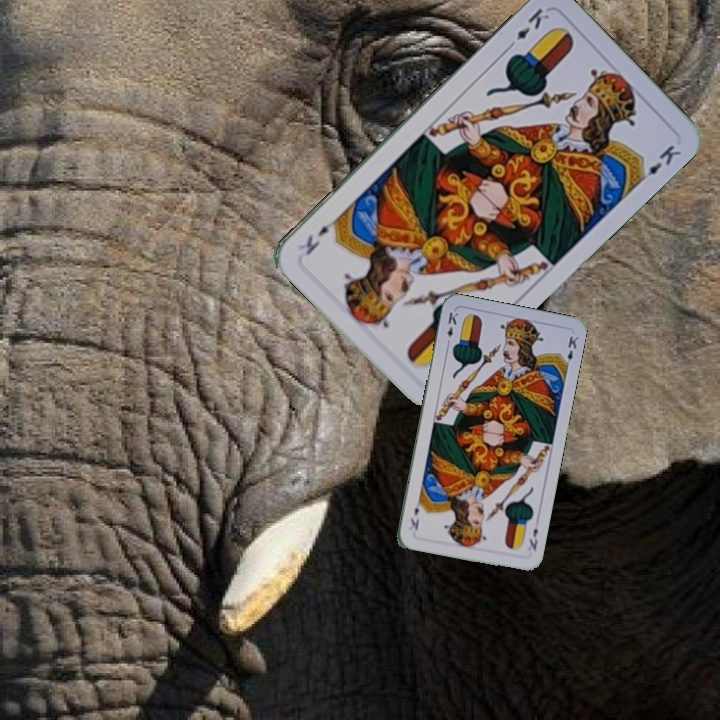EK: (503, 4, 553, 52), (442, 308, 461, 348), (525, 524, 540, 553)
